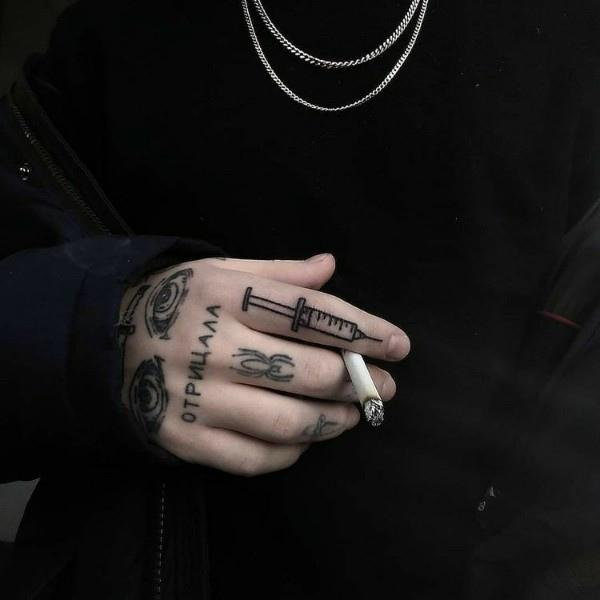cigarette: (343, 350, 383, 427)
